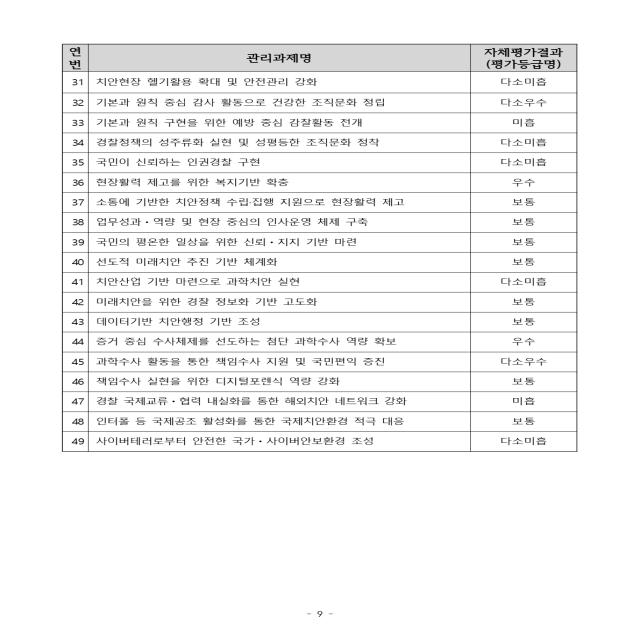table: (64, 44, 576, 453)
